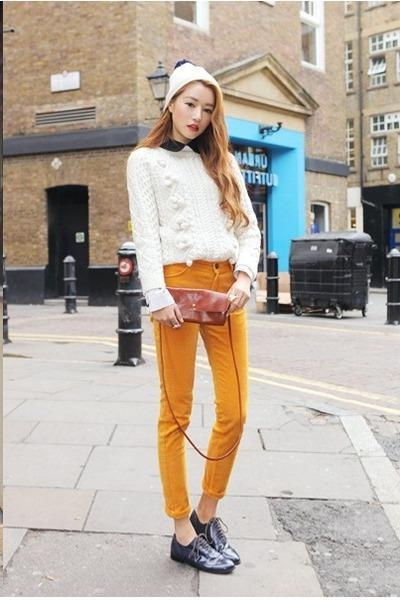sweater: (125, 142, 268, 320)
trousers: (146, 256, 253, 522)
